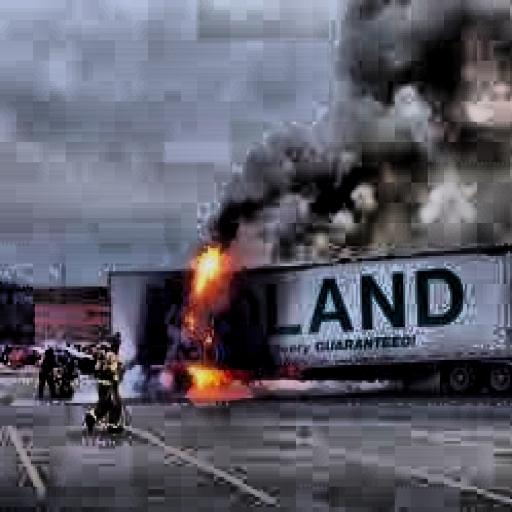fire: (165, 238, 263, 403)
